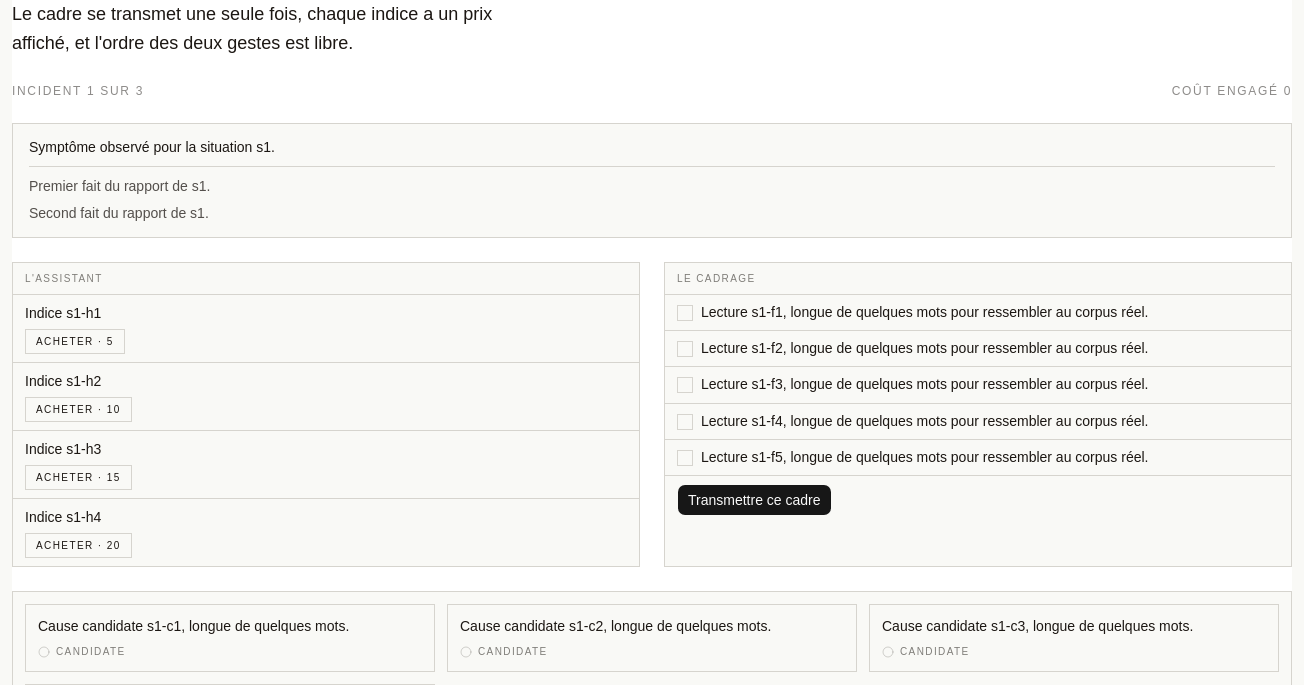
Scenario: hint budget game, rendered › marks the cause the player actually cut, distinct from a cause merely ruled out
Click the button "Cause candidate s1-c1, longue de quelques mots. candidate" at (194, 626), box [25,604,435,672]
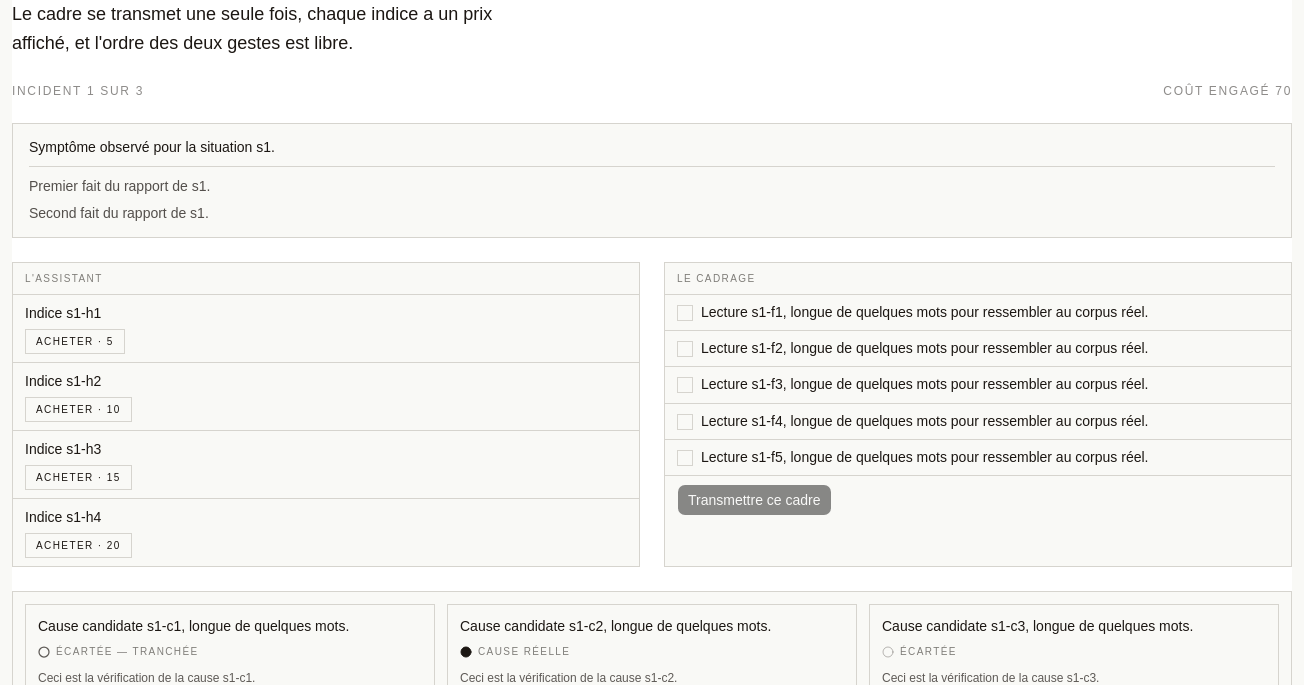
Expected: the text "tranchée" is not shown
Expected: the text "tranchée" is shown, [56,646,199,657]
